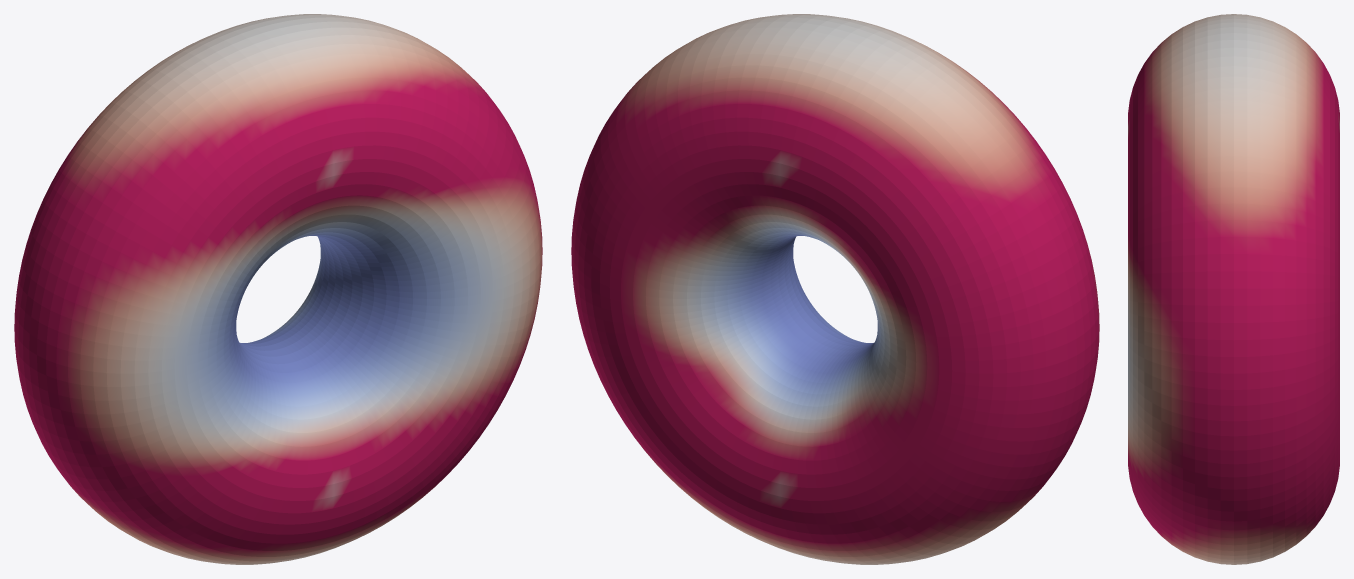
The picture shows the model from 3 angles, left to right: view 1: azimuth 30°, elevation 25°; view 2: azimuth 150°, elevation 25°; view 3: azimuth 270°, elevation 25°; orthographic projection. The views are drawn at different scales.
Visible parts, largest first — view 1: world; view 2: world; view 3: world.
Part boxes in pixels (x1=…): world: x1=14, y1=14, x2=542, y2=564; world: x1=571, y1=14, x2=1099, y2=564; world: x1=1128, y1=14, x2=1339, y2=564.
Bounding box in the file's own units: 23.87 × 23.87 × 9.18.
